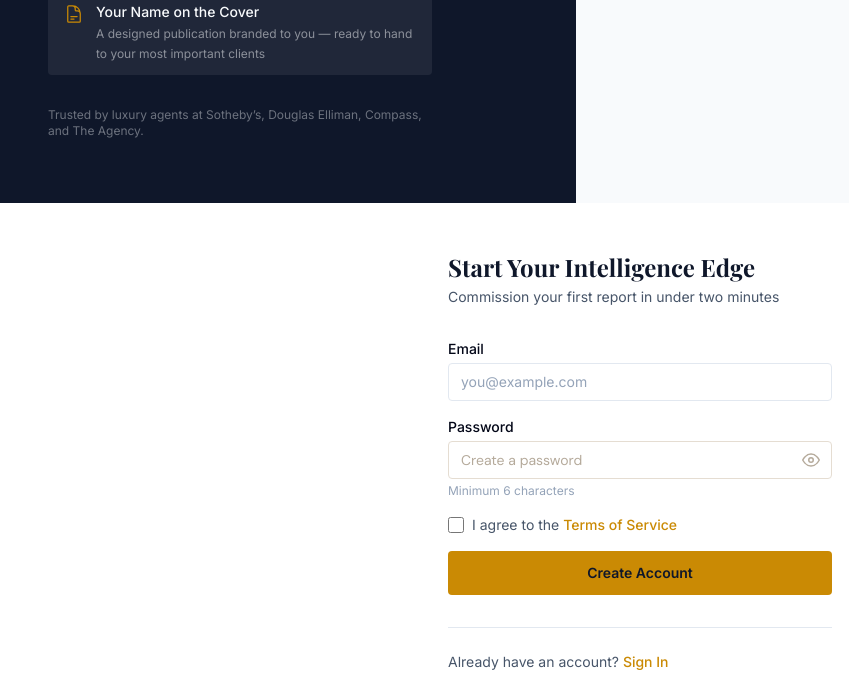
Test: ToS Acceptance on Signup › CMP-tos-01: Successful signup with ToS accepted › shows Check Your Email confirmation after successful signup
(page scrolled)
Type "agent@luxury.com" into the field with placeholder "you@example.com" at (640, 382), box [448, 363, 832, 401]
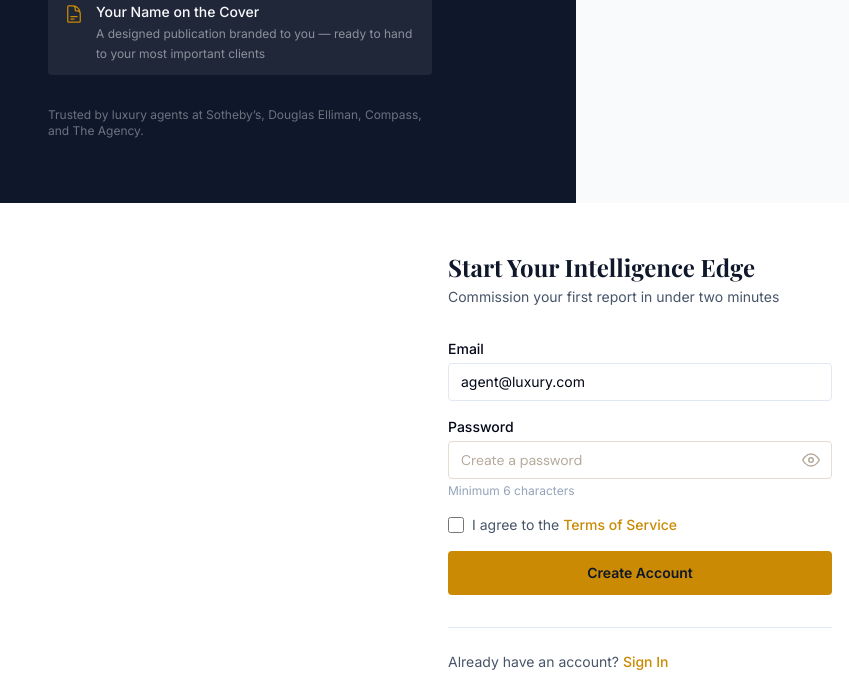
Type "securePass123" into the password field with placeholder "Create a password" at (640, 460), box [448, 441, 832, 479]
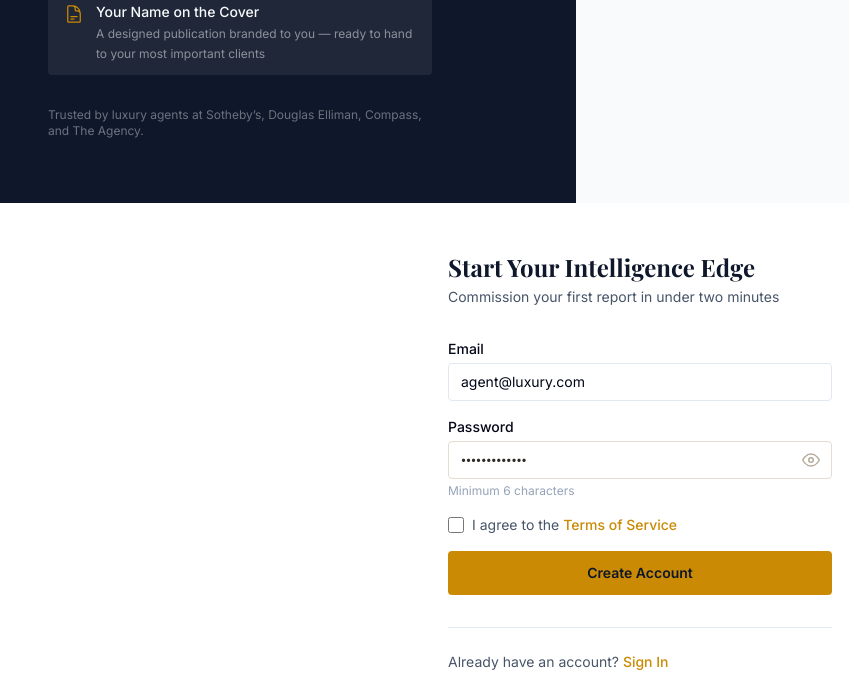
Click the checkbox labelled "I agree to the Terms of Service" at (456, 525), box [448, 517, 464, 533]
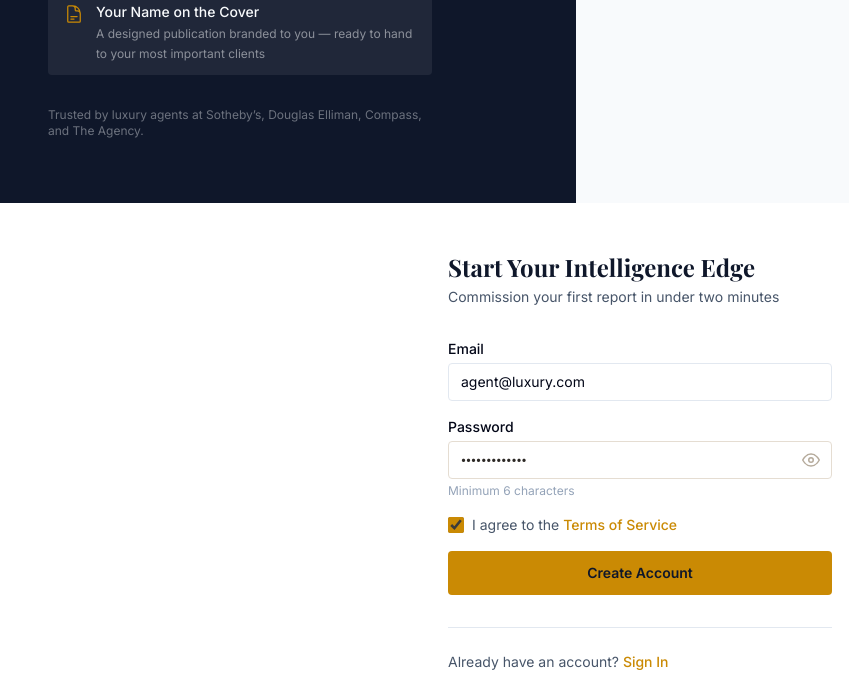
Click the button "Create Account" at (640, 573), box [448, 551, 832, 595]
(page scrolled)
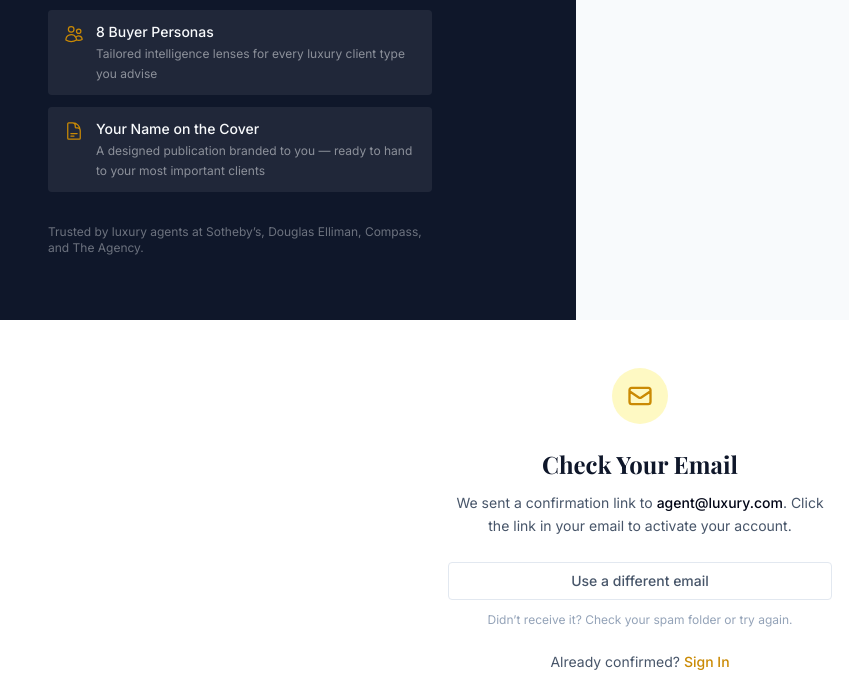
expect the heading "Check Your Email" is shown: met, box [542, 448, 738, 480]
